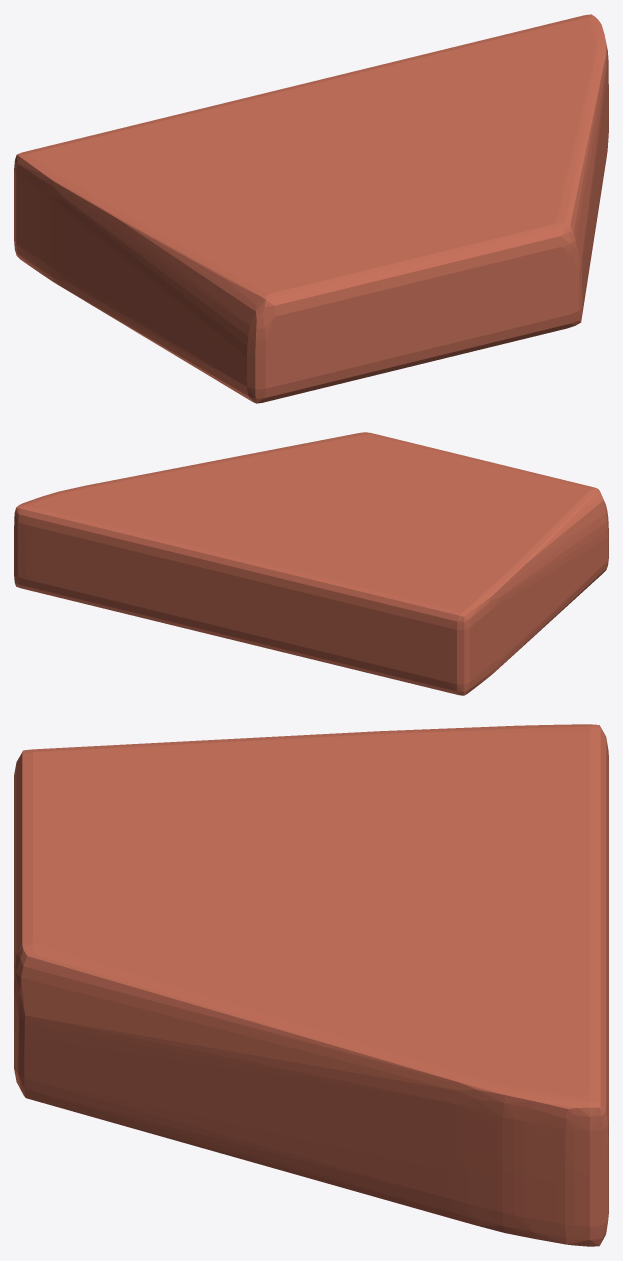
File: left_shoulder_yaw_link_part_9.obj
3 renders of one model, top to bottom at view 1: azimuth 30°, elevation 25°; view 2: azimuth 150°, elevation 25°; view 3: azimuth 270°, elevation 25°, orthographic. The views are drawn at different scales.
Size of the model in its own units: 0.0976 by 0.0168 by 0.0633.
